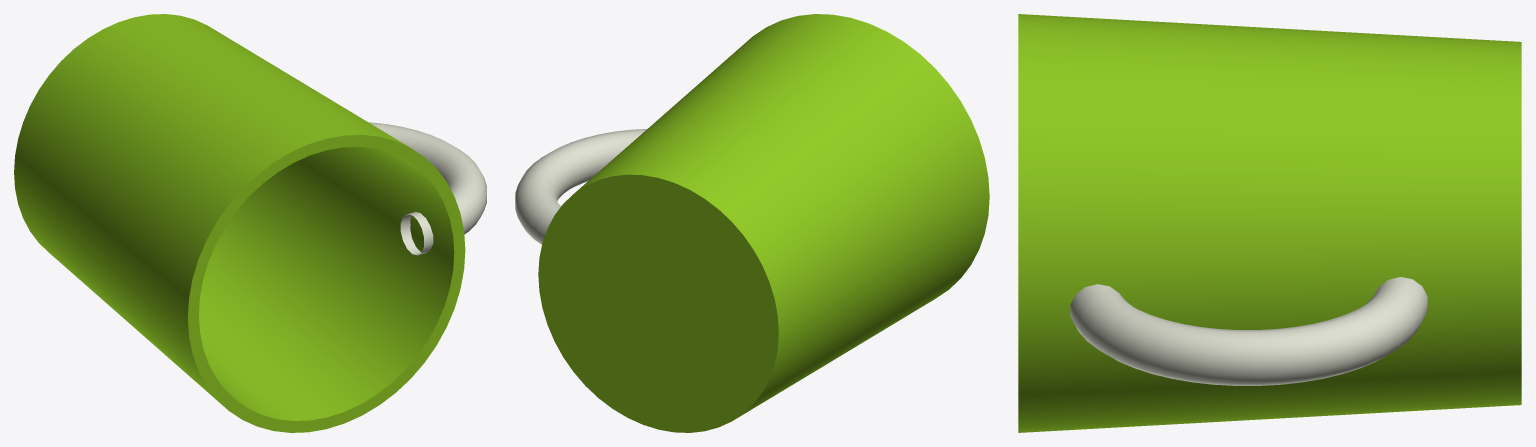
The model's file is green_mug.obj.
The picture shows the model from 3 angles, left to right: view 1: azimuth 30°, elevation 25°; view 2: azimuth 150°, elevation 25°; view 3: azimuth 270°, elevation 25°; orthographic projection. The views are drawn at different scales.
Visible parts, largest first — view 1: part1, part3, part2, part5; view 2: part1, part0, part5; view 3: part1, part5.
Boxes of the visible parts, box(x1,y1,x2,y2) form: part1: box(14, 14, 409, 408); part3: box(199, 147, 454, 420); part2: box(187, 135, 465, 432); part5: box(369, 122, 486, 255); part1: box(575, 14, 989, 419); part0: box(538, 174, 778, 432); part5: box(515, 129, 646, 244); part1: box(1018, 14, 1521, 432); part5: box(1070, 277, 1427, 385).
Size of the model in its own units: 0.0993 by 0.075 by 0.09.
